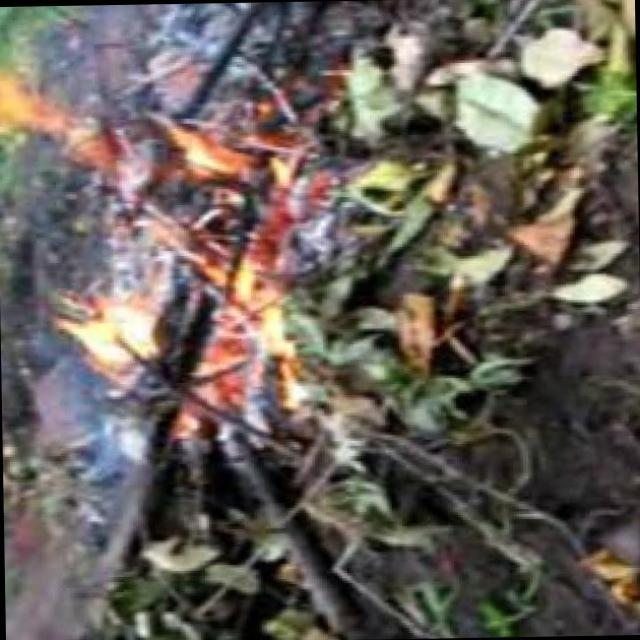Fire: (46, 86, 314, 435)
